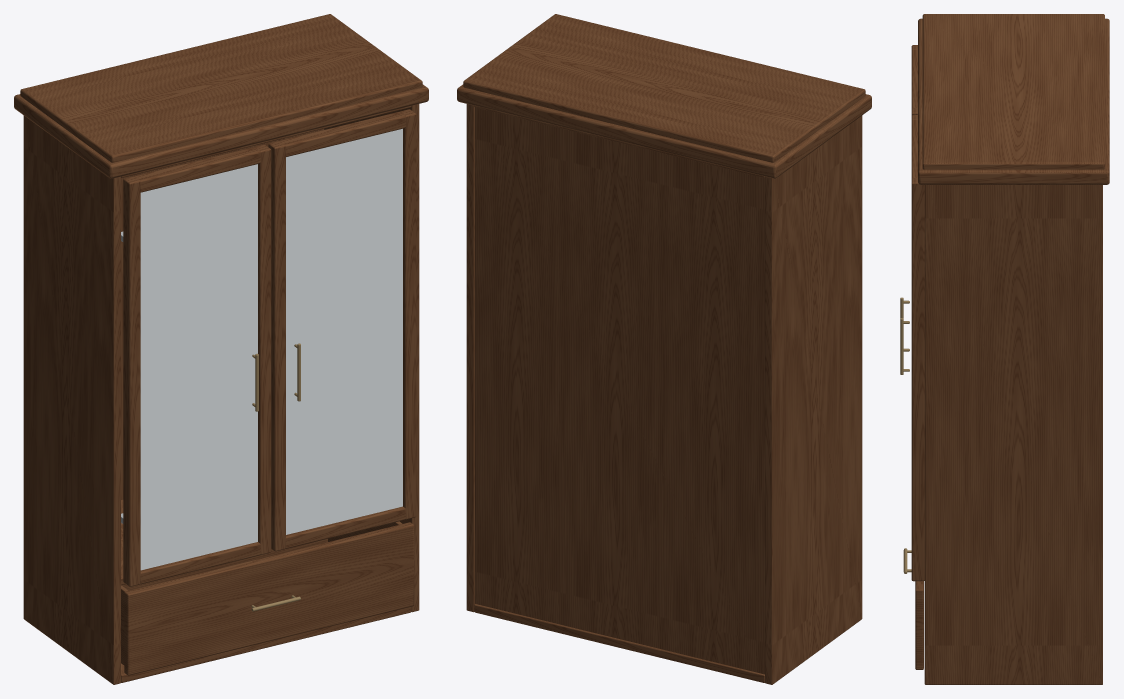
The model's file is closet.glb.
3 views of the same model, side by side, from view 1: azimuth 30°, elevation 25°; view 2: azimuth 150°, elevation 25°; view 3: azimuth 270°, elevation 25° (orthographic).
Visible parts, largest first — view 1: Armoire | mirrored door | stile, Armoire | mirrored door | stile.003, Case | side, Armoire | crown step, Armoire | lower full-width drawer | front, Armoire | moulded cornice, Case | side.001, Case | horizontal panel, Case | inset back, Armoire | lower full-width drawer | drawer rear, Case | horizontal panel.001; view 2: Case | inset back, Case | side, Armoire | crown step, Armoire | moulded cornice, Case | side.001, Case | horizontal panel, Case | horizontal panel.001; view 3: Case | side.001, Armoire | crown step, Armoire | mirrored door | stile.003, Armoire | moulded cornice, Armoire | lower full-width drawer | front, Armoire | mirrored door | stile.
Boxes of the visible parts, left/top/right/bottom form: Armoire | mirrored door | stile: left=123, top=144, right=271, bottom=586; Armoire | mirrored door | stile.003: left=268, top=109, right=416, bottom=551; Case | side: left=23, top=115, right=120, bottom=684; Armoire | crown step: left=20, top=14, right=422, bottom=162; Armoire | lower full-width drawer | front: left=124, top=522, right=414, bottom=675; Armoire | moulded cornice: left=14, top=84, right=428, bottom=178; Case | side.001: left=324, top=104, right=419, bottom=612; Case | horizontal panel: left=121, top=606, right=411, bottom=682; Case | inset back: left=121, top=128, right=324, bottom=499; Armoire | lower full-width drawer | drawer rear: left=122, top=539, right=327, bottom=590; Case | horizontal panel.001: left=121, top=105, right=411, bottom=177; Case | inset back: left=475, top=107, right=764, bottom=674; Case | side: left=765, top=115, right=862, bottom=684; Armoire | crown step: left=463, top=14, right=865, bottom=162; Armoire | moulded cornice: left=457, top=84, right=871, bottom=178; Case | side.001: left=466, top=104, right=474, bottom=612; Case | horizontal panel: left=474, top=604, right=764, bottom=682; Case | horizontal panel.001: left=474, top=105, right=764, bottom=177; Case | side.001: left=924, top=185, right=1102, bottom=684; Armoire | crown step: left=922, top=14, right=1104, bottom=169; Armoire | mirrored door | stile.003: left=911, top=115, right=924, bottom=581; Armoire | moulded cornice: left=918, top=18, right=1109, bottom=184; Armoire | lower full-width drawer | front: left=915, top=581, right=923, bottom=669; Armoire | mirrored door | stile: left=911, top=45, right=917, bottom=115.
Bounding box in the file's own units: 1.2 × 1.9 × 0.6895.
Materials: 4 (1 with a texture image).
